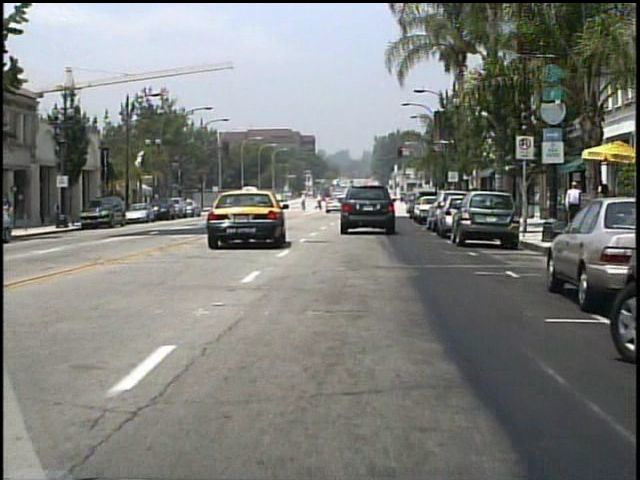person: (561, 179, 582, 226), (298, 192, 309, 212), (312, 193, 323, 212)
